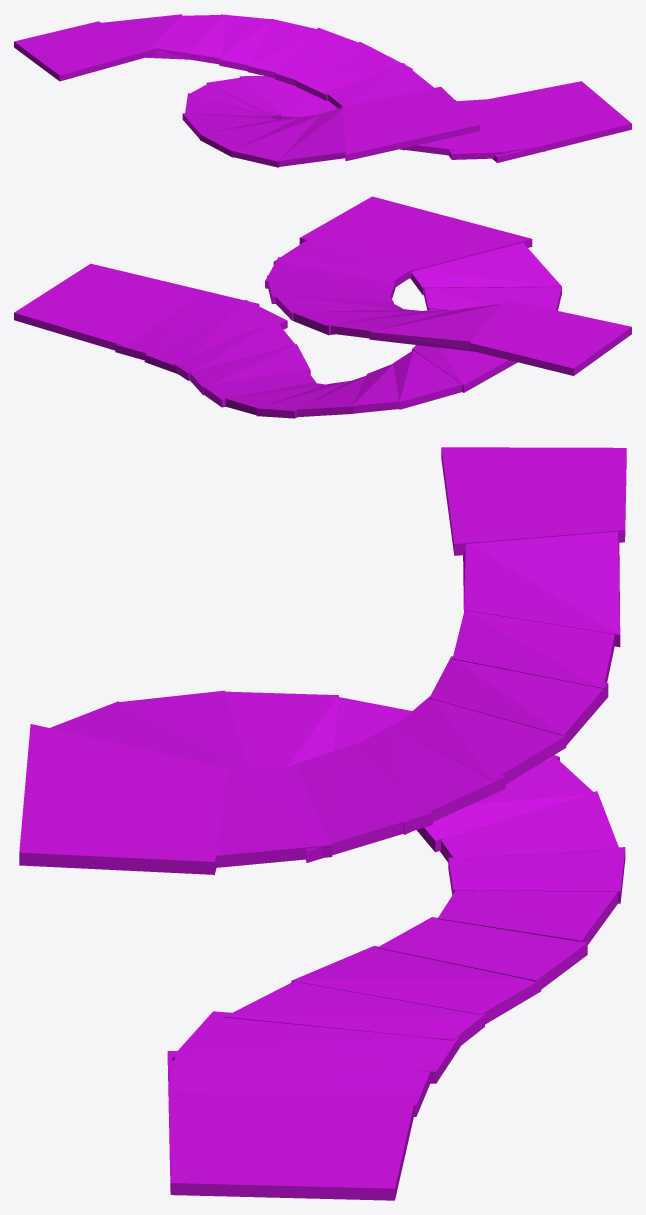
File: hole-seven-floor-v3.glb
3 views of the same model, one above another, from view 1: azimuth 30°, elevation 25°; view 2: azimuth 150°, elevation 25°; view 3: azimuth 270°, elevation 25° (orthographic). The views are drawn at different scales.
Visible parts, largest first — view 1: Hole 7 floor.004, Hole 7 floor, Hole 7 floor.001, Hole 7 floor.020, Hole 7 floor.019, Hole 7 floor.005, Hole 7 floor.003, Hole 7 floor.002, Hole 7 floor.021, Hole 7 floor.022, Hole 7 floor.006, Hole 7 floor.023 (+10 smaller); view 2: Hole 7 floor, Hole 7 floor.004, Hole 7 floor.001, Hole 7 floor.005, Hole 7 floor.017, Hole 7 floor.002, Hole 7 floor.018, Hole 7 floor.019, Hole 7 floor.006, Hole 7 floor.015, Hole 7 floor.016, Hole 7 floor.009 (+11 smaller); view 3: Hole 7 floor, Hole 7 floor.004, Hole 7 floor.001, Hole 7 floor.002, Hole 7 floor.017, Hole 7 floor.015, Hole 7 floor.019, Hole 7 floor.018, Hole 7 floor.023, Hole 7 floor.016, Hole 7 floor.020, Hole 7 floor.022 (+11 smaller).
Boxes of the visible parts, box(x1,y1,x2,y2) form: Hole 7 floor.004: box(341, 86, 480, 160); Hole 7 floor: box(482, 81, 631, 162); Hole 7 floor.001: box(14, 21, 155, 81); Hole 7 floor.020: box(296, 42, 412, 100); Hole 7 floor.019: box(326, 63, 433, 108); Hole 7 floor.005: box(277, 108, 345, 166); Hole 7 floor.003: box(247, 19, 322, 77); Hole 7 floor.002: box(102, 14, 189, 59); Hole 7 floor.021: box(274, 27, 372, 85); Hole 7 floor.022: box(219, 14, 271, 71); Hole 7 floor.006: box(231, 114, 320, 167); Hole 7 floor.023: box(182, 14, 226, 64); Hole 7 floor: box(14, 263, 259, 350); Hole 7 floor.004: box(299, 196, 532, 278); Hole 7 floor.001: box(470, 299, 631, 375); Hole 7 floor.005: box(410, 242, 561, 295); Hole 7 floor.017: box(144, 300, 287, 373); Hole 7 floor.002: box(369, 303, 500, 351); Hole 7 floor.018: box(115, 292, 246, 360); Hole 7 floor.019: box(273, 240, 411, 287); Hole 7 floor.006: box(424, 287, 561, 310); Hole 7 floor.015: box(189, 344, 310, 395); Hole 7 floor.016: box(173, 321, 294, 380); Hole 7 floor.009: box(393, 350, 462, 409); Hole 7 floor: box(167, 1051, 415, 1200); Hole 7 floor.004: box(19, 724, 233, 874); Hole 7 floor.001: box(441, 447, 626, 555); Hole 7 floor.002: box(463, 531, 620, 647); Hole 7 floor.017: box(172, 1011, 460, 1083); Hole 7 floor.015: box(291, 945, 541, 1024); Hole 7 floor.019: box(216, 766, 332, 867); Hole 7 floor.018: box(170, 1055, 430, 1116); Hole 7 floor.023: box(452, 610, 614, 688); Hole 7 floor.016: box(224, 981, 484, 1045); Hole 7 floor.020: box(290, 743, 432, 862); Hole 7 floor.022: box(429, 656, 608, 745).
Bounding box in the file's own units: 39.4 × 9.48 × 20.31.
